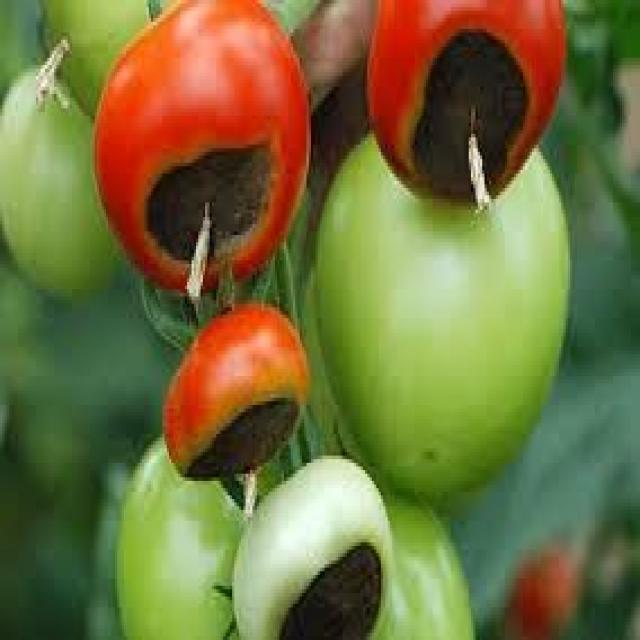organic waste: (311, 127, 568, 496), (90, 0, 306, 289), (138, 253, 306, 517), (363, 0, 561, 210), (110, 423, 282, 636), (230, 448, 392, 636), (0, 61, 122, 293), (343, 459, 471, 636), (38, 0, 169, 101), (509, 542, 579, 630), (255, 0, 313, 33)
